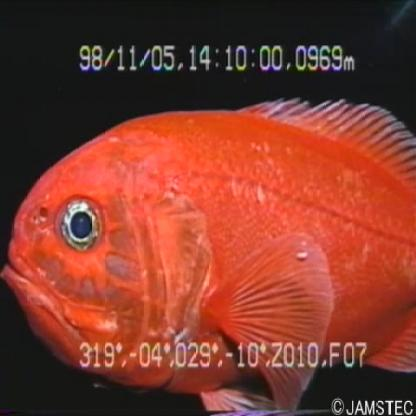Bio: (1, 96, 416, 415)
